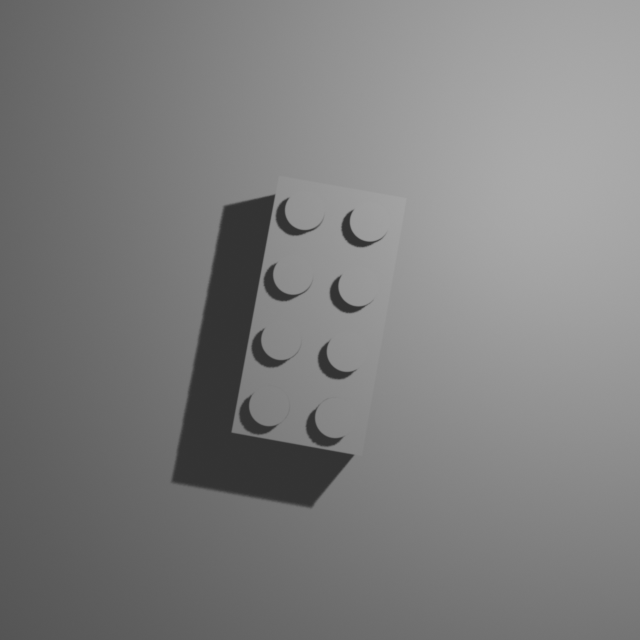lego_2x4: (230, 173, 408, 457)
